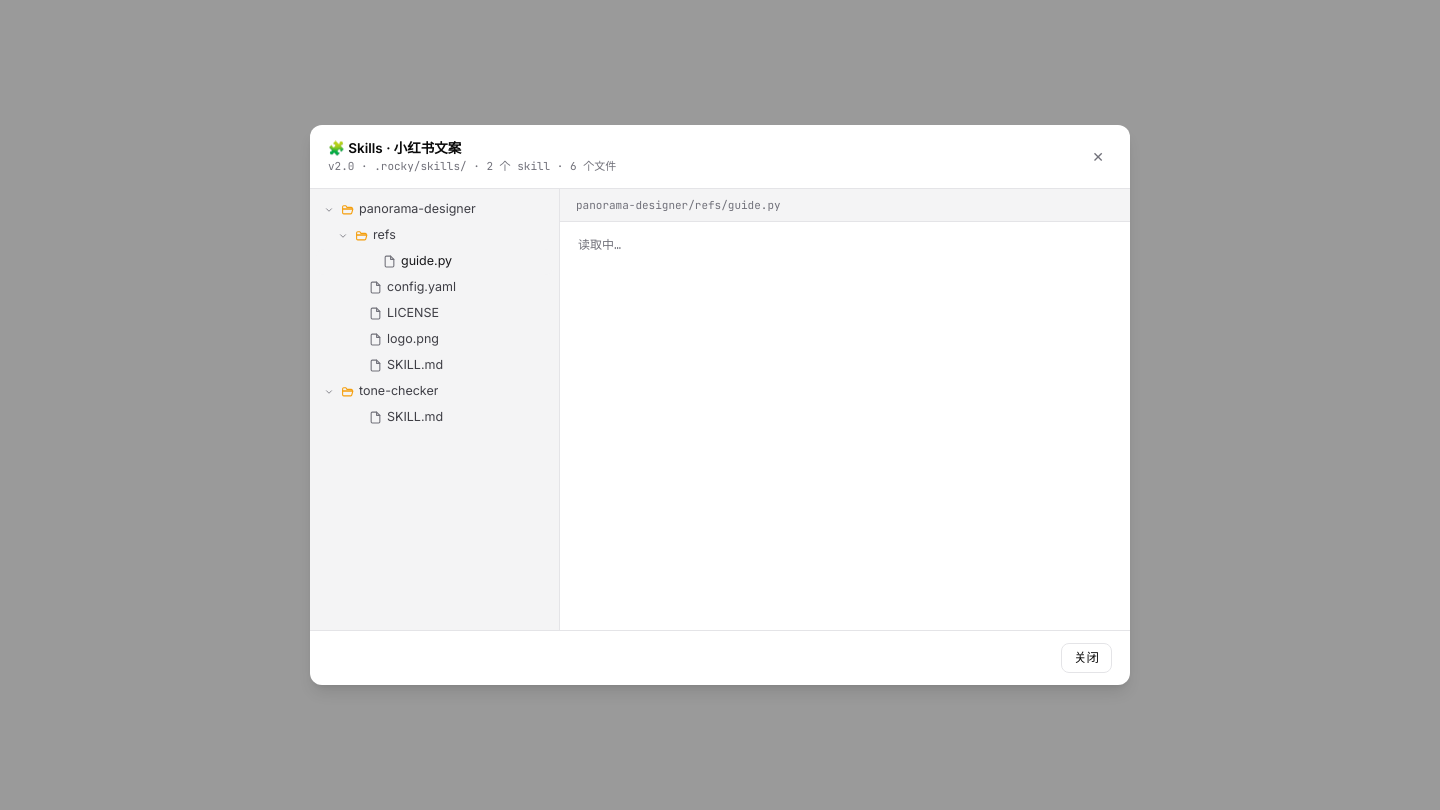
Test: ComponentSkillBrowserModal — 右侧按类别分渲染 › binary 文件（后端标记）→ 显「二进制文件，不可预览」
Click the button "logo.png" at (404, 339), box [369,331,439,346]
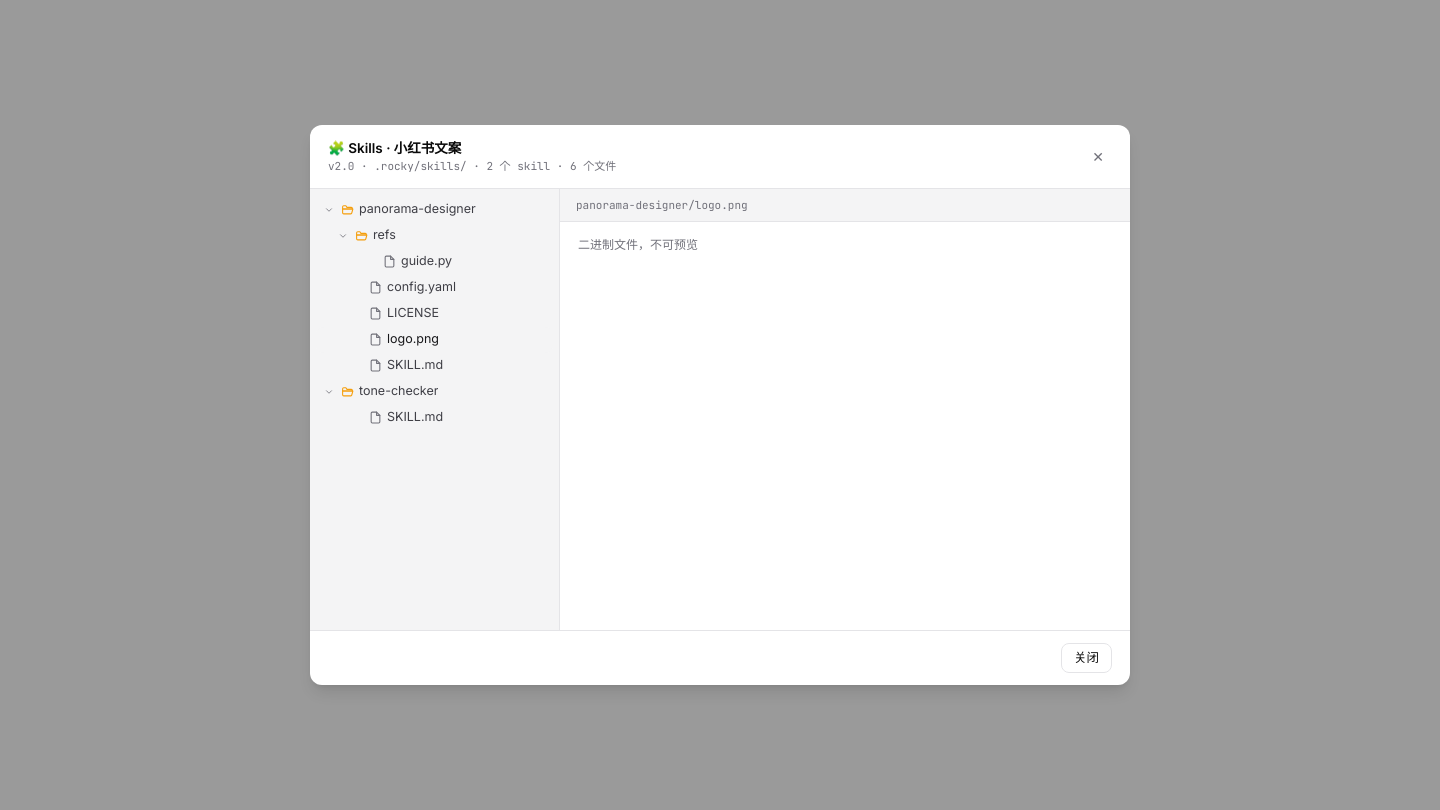
Expected: the text "二进制文件，不可预览" is shown, [578,237,698,253]
